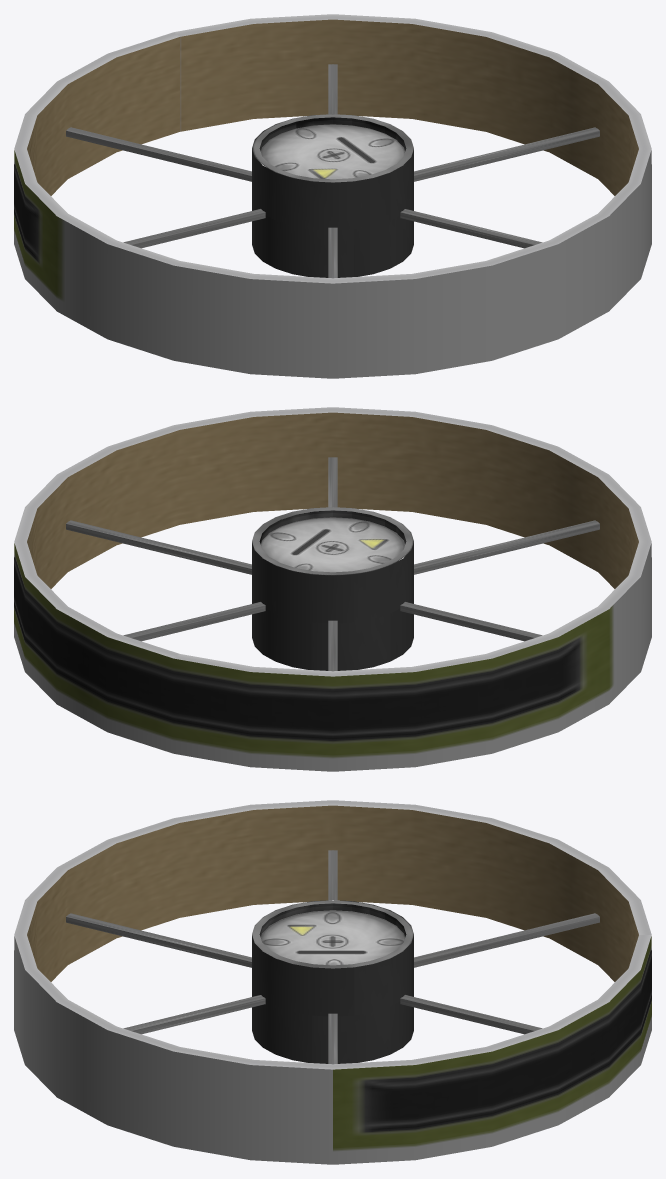
The picture shows the model from 3 angles, top to bottom: view 1: azimuth 30°, elevation 25°; view 2: azimuth 150°, elevation 25°; view 3: azimuth 270°, elevation 25°; orthographic projection.
Parts seen in each view (by area): view 1: Adapter25, Cylinder049, Cylinder046, Box109, Box108, Box110; view 2: Adapter25, Cylinder049, Cylinder046, Box110, Box108, Box109; view 3: Adapter25, Cylinder049, Cylinder046, Box110, Box109, Box108.
Boxes of the visible parts, left/top/right/bottom form: Adapter25: left=14, top=14, right=651, bottom=378; Cylinder049: left=252, top=114, right=413, bottom=230; Cylinder046: left=252, top=197, right=413, bottom=277; Box109: left=66, top=127, right=542, bottom=248; Box108: left=123, top=127, right=599, bottom=248; Box110: left=328, top=64, right=337, bottom=278; Adapter25: left=14, top=407, right=651, bottom=771; Cylinder049: left=252, top=507, right=413, bottom=623; Cylinder046: left=252, top=590, right=413, bottom=670; Box110: left=123, top=520, right=599, bottom=641; Box108: left=66, top=520, right=542, bottom=641; Box109: left=328, top=457, right=337, bottom=671; Adapter25: left=14, top=800, right=651, bottom=1164; Cylinder049: left=252, top=900, right=413, bottom=1016; Cylinder046: left=252, top=983, right=413, bottom=1063; Box110: left=66, top=913, right=542, bottom=1034; Box109: left=123, top=913, right=599, bottom=1034; Box108: left=328, top=850, right=337, bottom=1064.
Size of what is drawn, in the model's own units: 2.5 by 2.5 by 0.4158.
1 material, 1 textured.
